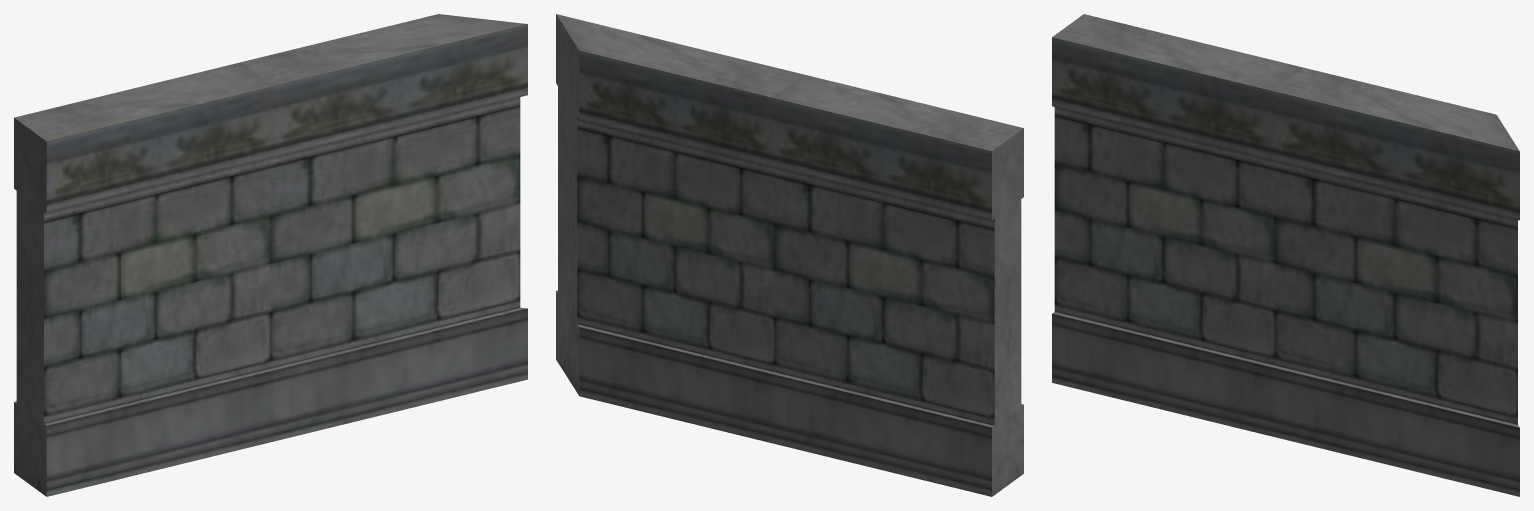
File: sd_wall_large_corner_l_01.glb
The picture shows the model from 3 angles, left to right: view 1: azimuth 30°, elevation 25°; view 2: azimuth 150°, elevation 25°; view 3: azimuth 330°, elevation 25°; orthographic projection. The views are drawn at different scales.
Parts seen in each view (by area): view 1: wall_large_corner_L_01; view 2: wall_large_corner_L_01; view 3: wall_large_corner_L_01.
Boxes of the visible parts, x1,y1,x2,y2 form: wall_large_corner_L_01: (14, 14, 527, 496); wall_large_corner_L_01: (556, 14, 1023, 496); wall_large_corner_L_01: (1052, 14, 1519, 496).
Bounding box in the file's own units: 4.25 × 3 × 0.5001.
Materials: 1 (1 with a texture image).
